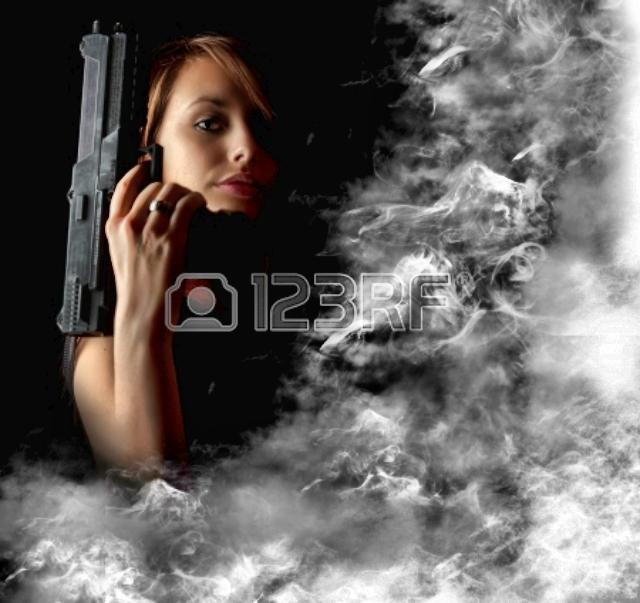pistol: (54, 13, 220, 339)
